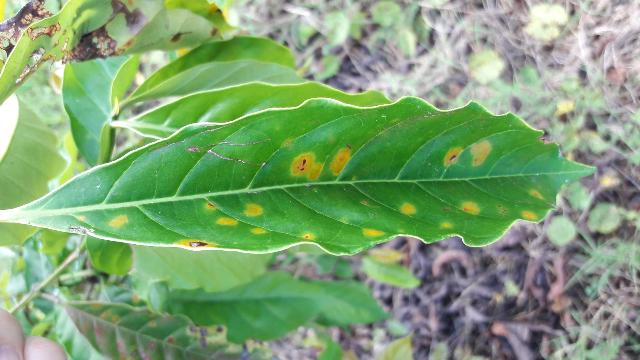rust_level_2: (8, 98, 599, 257)
